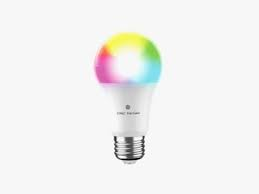bulb: (89, 30, 166, 150)
